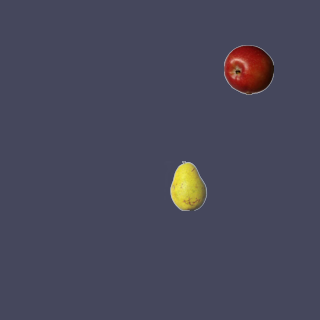Apple Braeburn: (223, 44, 273, 94)
Pear Monster: (163, 160, 213, 210)
